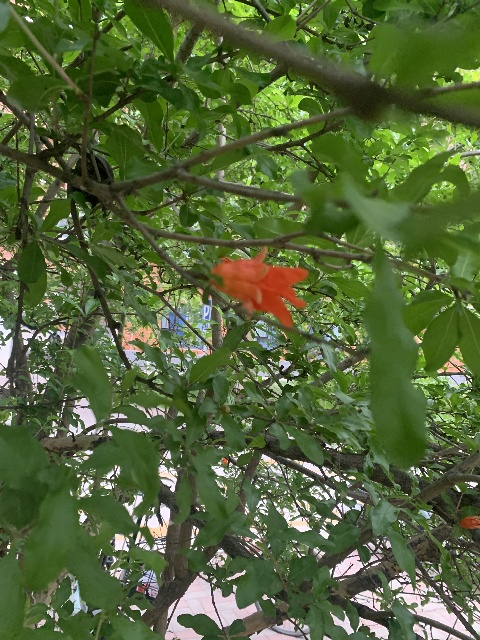flower: (208, 243, 310, 329), (459, 515, 480, 529)
